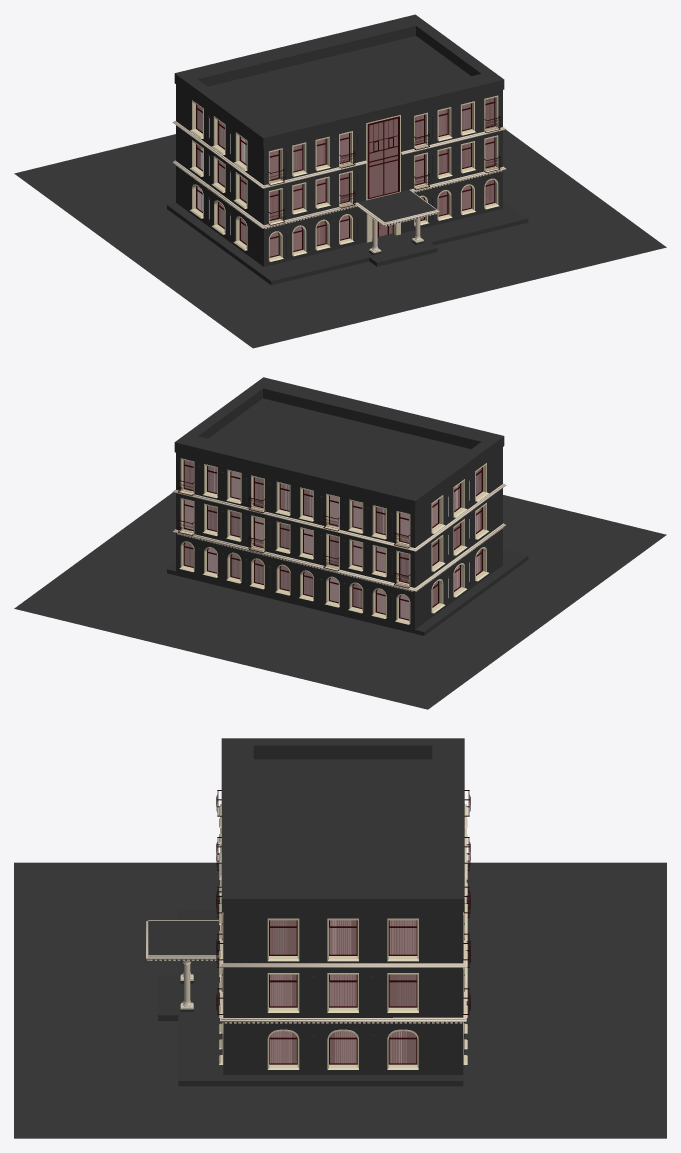
The picture shows the model from 3 angles, top to bottom: view 1: azimuth 30°, elevation 25°; view 2: azimuth 150°, elevation 25°; view 3: azimuth 270°, elevation 25°; orthographic projection. The views are drawn at different scales.
Visible parts, largest first — view 1: Plane; view 2: Plane; view 3: Plane.
Part boxes in pixels (left/top/right/bottom): Plane: left=14, top=14, right=666, bottom=348; Plane: left=14, top=377, right=666, bottom=709; Plane: left=14, top=738, right=666, bottom=1138.
Size of the model in its own units: 295 by 91.42 by 295.
